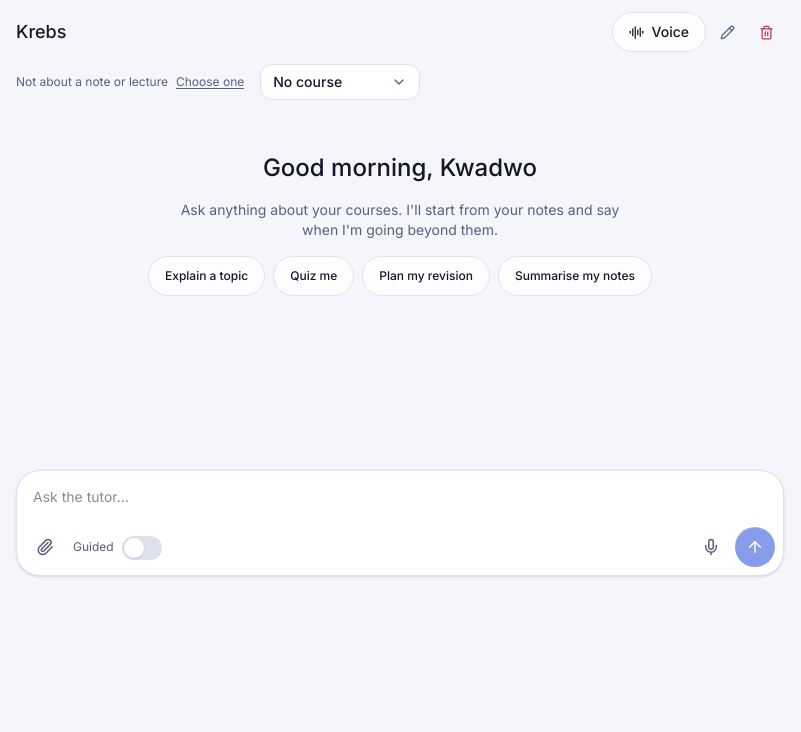
dictation › says when the microphone is blocked
The width and height of the screenshot is (801, 732).
Click the button named "Dictate" at {"x": 711, "y": 547}, box [691,527,731,567]
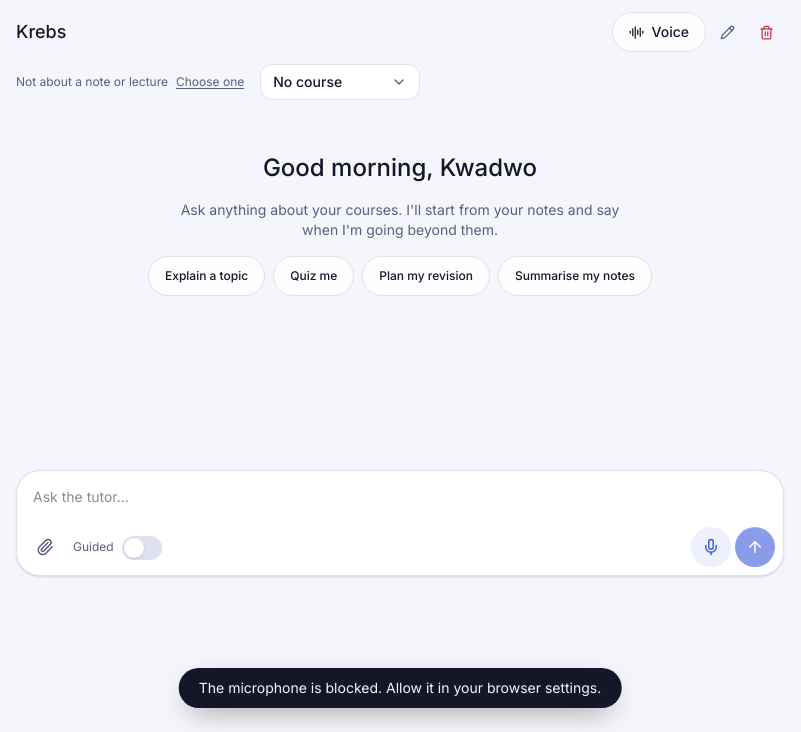
Expected: the text "The microphone is blocked. Allow it in your browser settings." is shown, [179,668,621,708]
